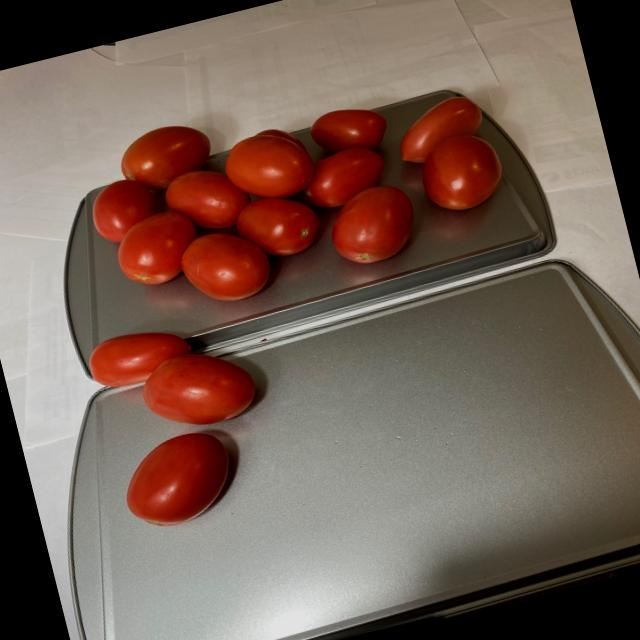tomato: (68, 46, 526, 334), (80, 307, 286, 546)
